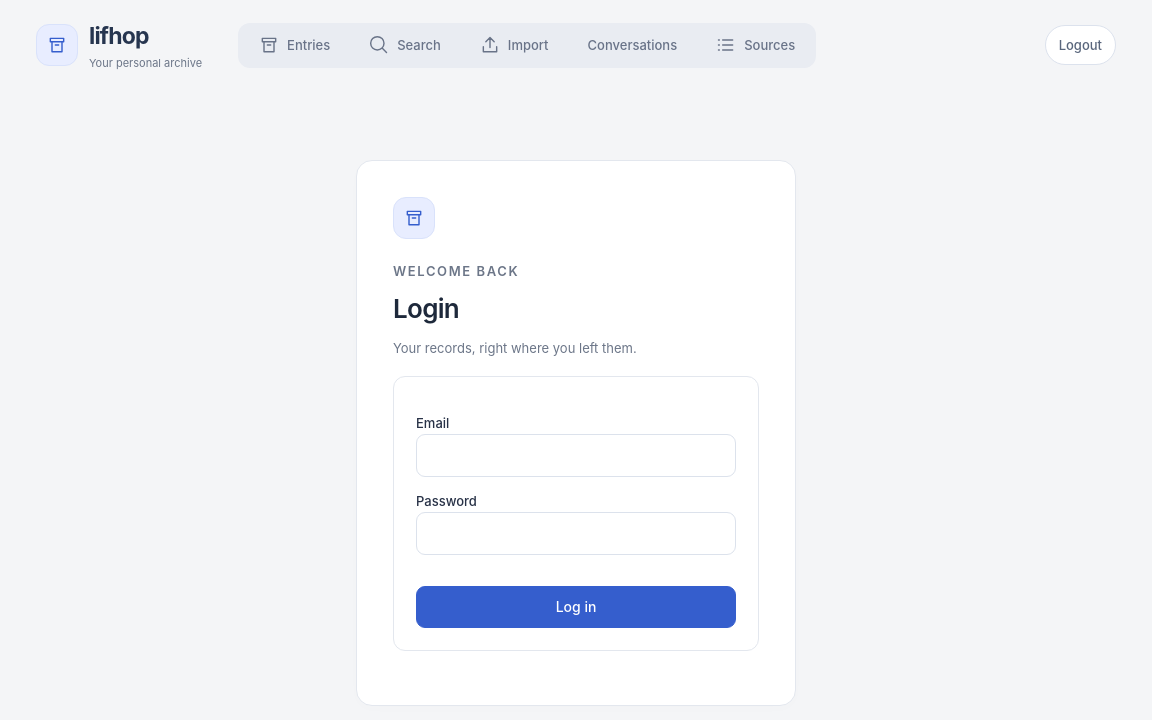
Test: Entry browser flow › clears the previous account's cached records after login
Type "new@example.com" into the field labelled "Email".
click(576, 456); type("new@example.com")  # box [416, 434, 736, 477]
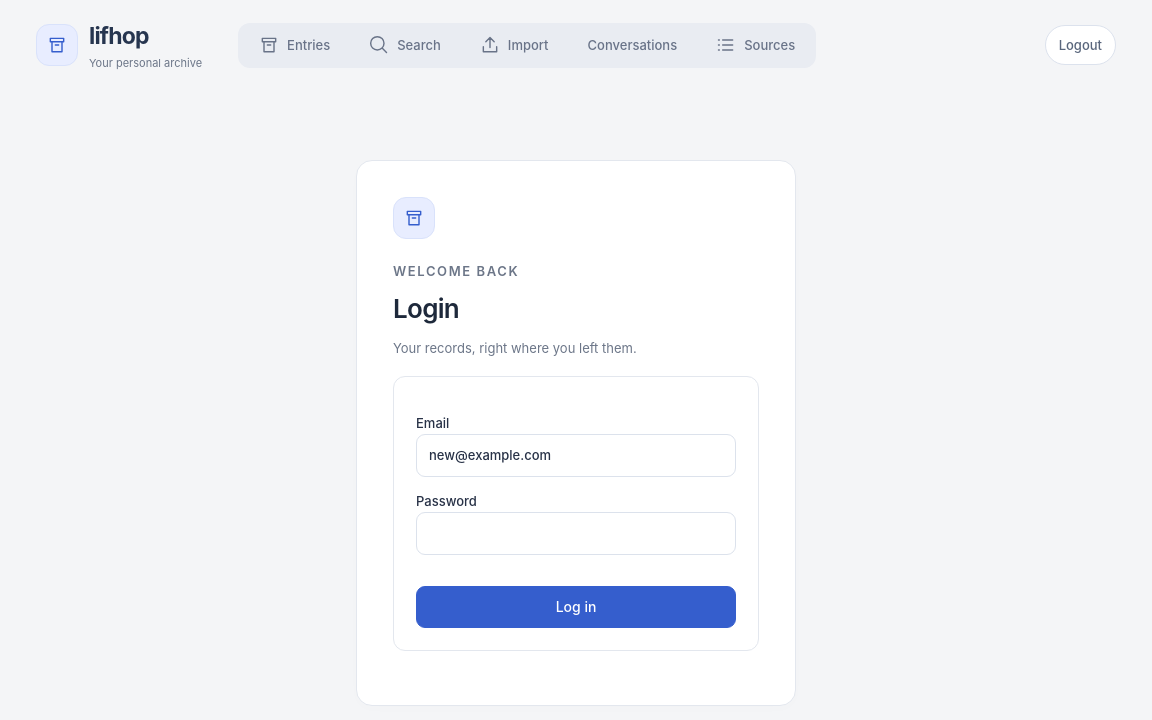
Type "password" into the password field labelled "Password".
click(576, 533); type("password")  # box [416, 512, 736, 555]
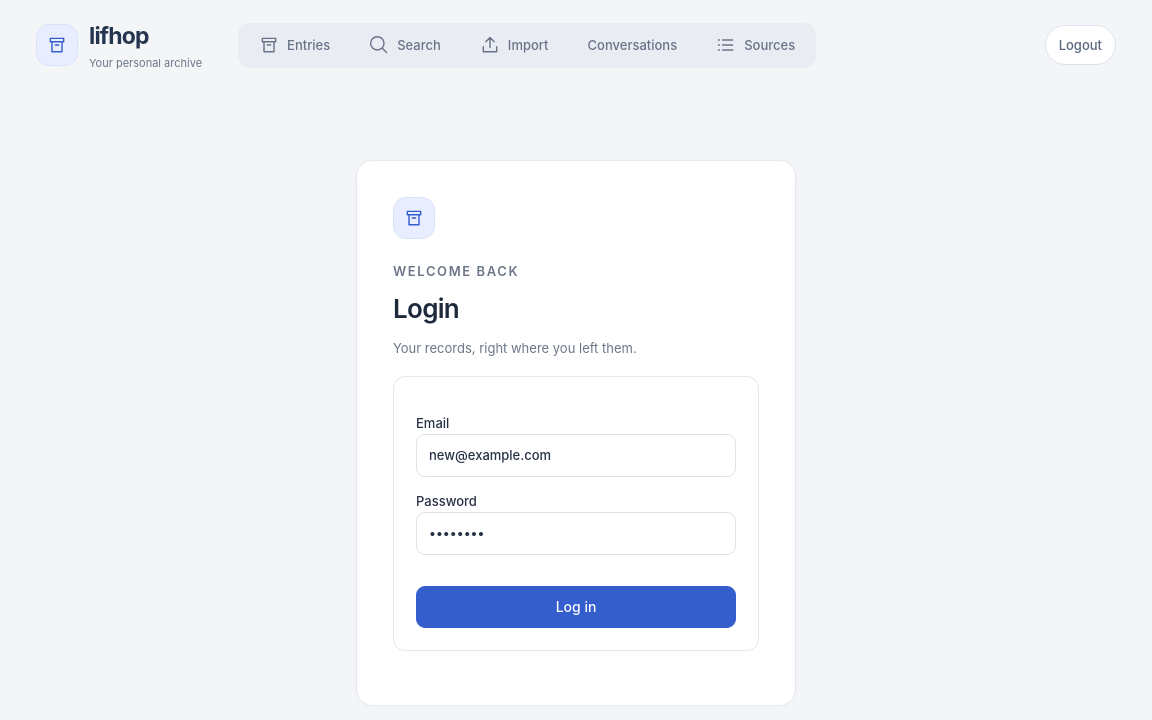
Click the button "Log in".
click(576, 607)  # box [416, 586, 736, 628]
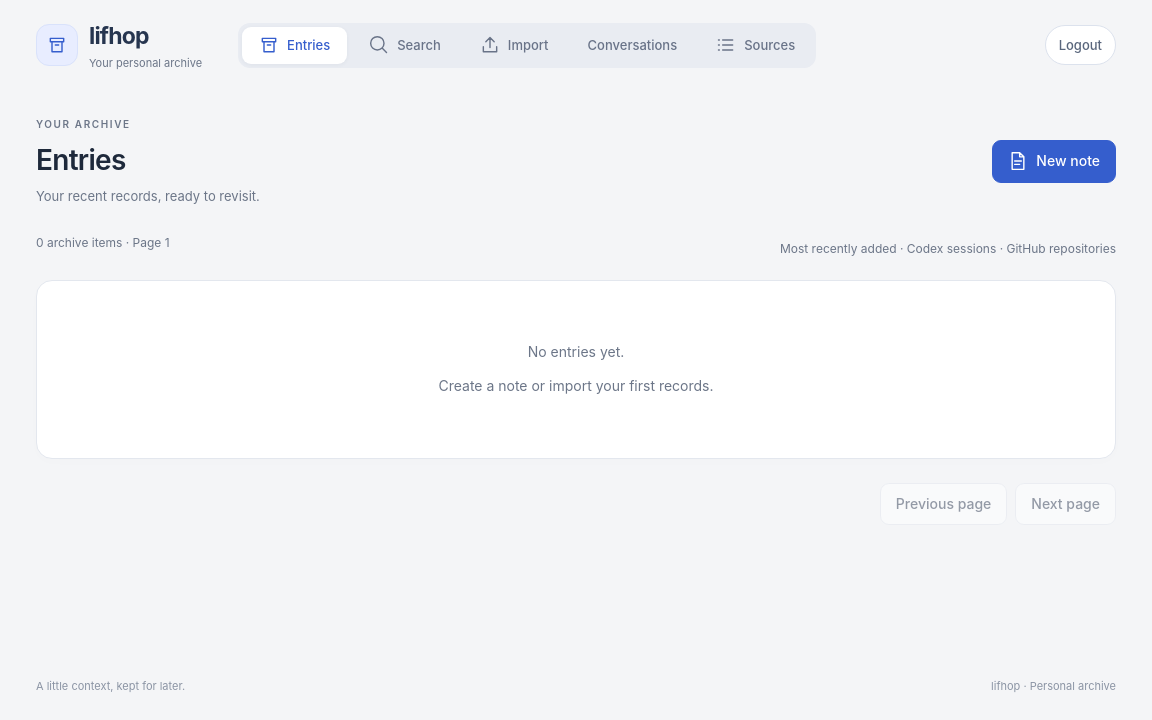
Now the text "No entries yet." is shown, box [528, 343, 624, 360]
